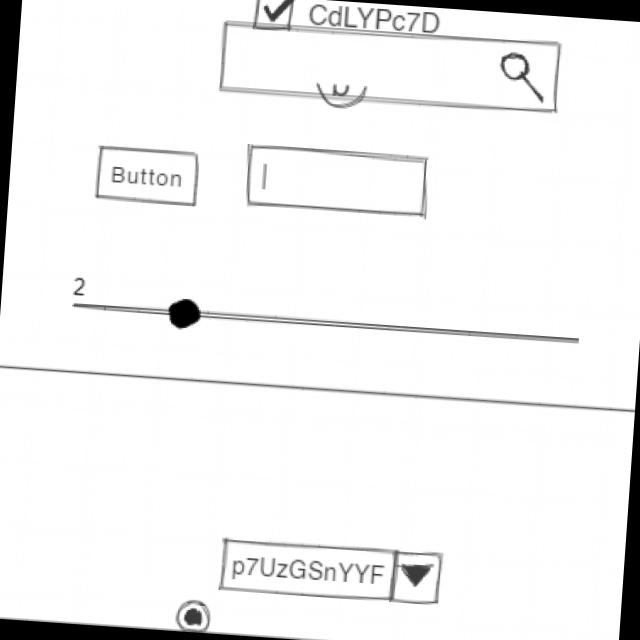button: (93, 142, 206, 212)
checkbox: (249, 1, 444, 42)
container: (1, 360, 635, 640)
input: (241, 140, 435, 224)
radio: (173, 597, 214, 634)
search: (216, 20, 565, 122)
select: (90, 290, 586, 361), (216, 534, 446, 610)
